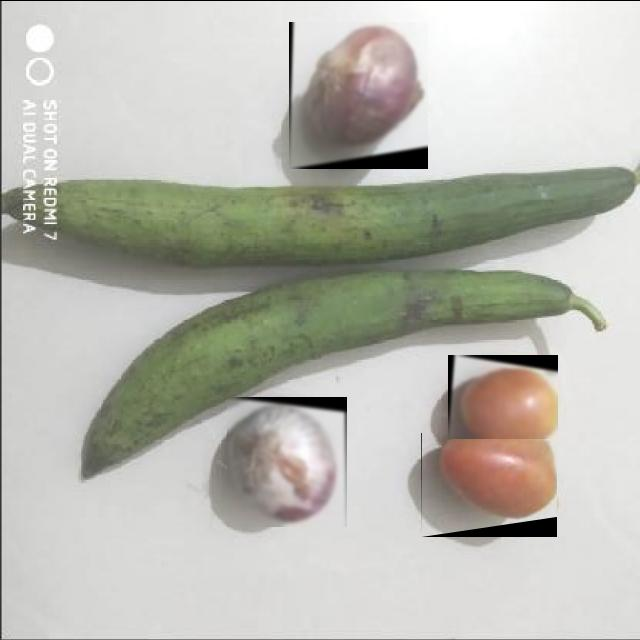onion: (289, 21, 428, 168), (227, 396, 347, 526)
tomato: (421, 432, 557, 536), (448, 354, 558, 438)
